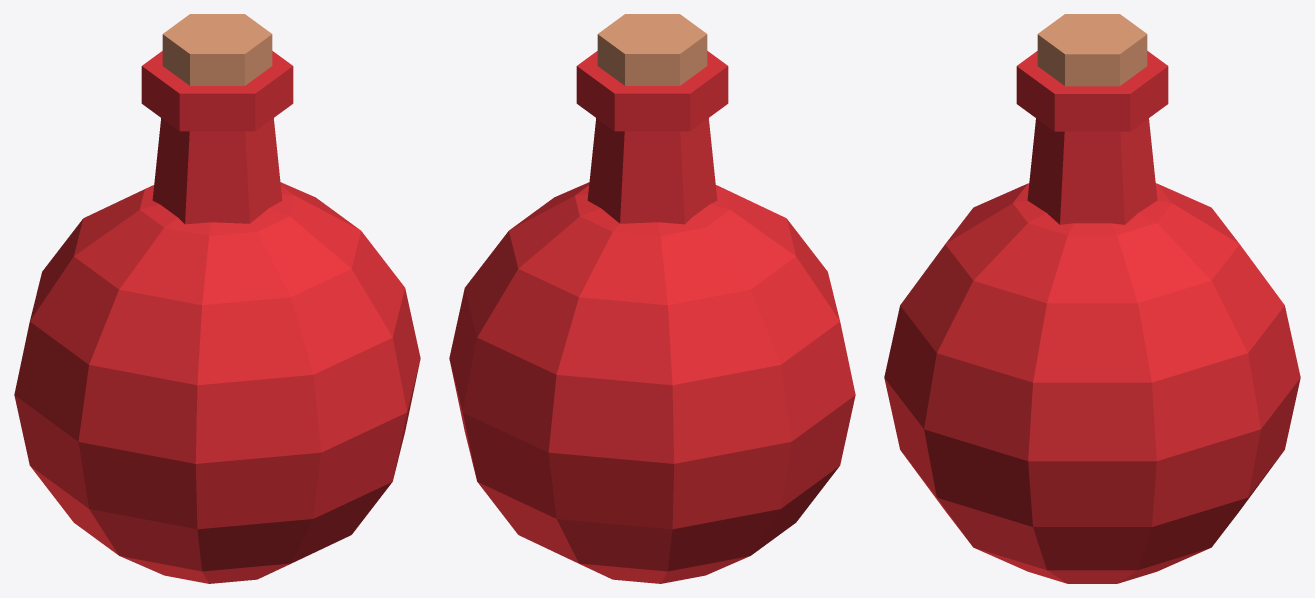
The model's file is Halloween_BottleRed.fbx.
3 views of the same model, side by side, from view 1: azimuth 30°, elevation 25°; view 2: azimuth 150°, elevation 25°; view 3: azimuth 270°, elevation 25° (orthographic).
Visible parts, largest first — view 1: Flask.002; view 2: Flask.002; view 3: Flask.002.
Boxes of the visible parts, left/top/right/bottom form: Flask.002: left=14, top=14, right=420, bottom=583; Flask.002: left=449, top=14, right=855, bottom=583; Flask.002: left=884, top=14, right=1300, bottom=583.
Bounding box in the file's own units: 174 × 258 × 183.
